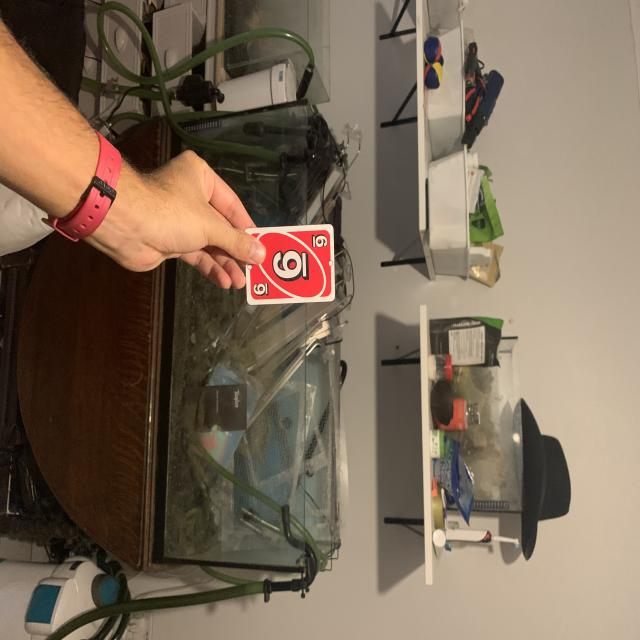lred-6: (309, 227, 329, 250)
